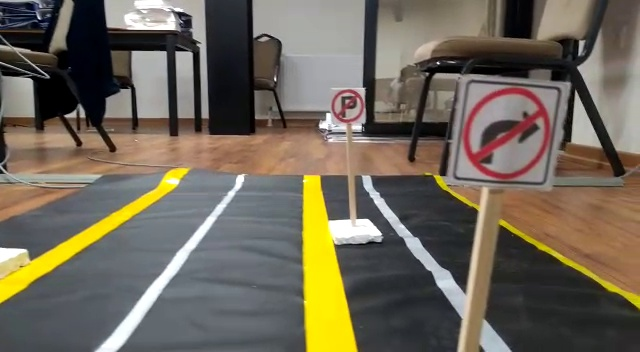park_yapilmaz: (330, 90, 367, 123)
saga_donulmez: (461, 73, 554, 186)
